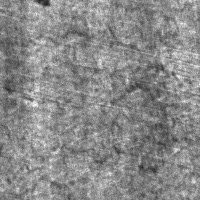crazing: (109, 61, 188, 176)
